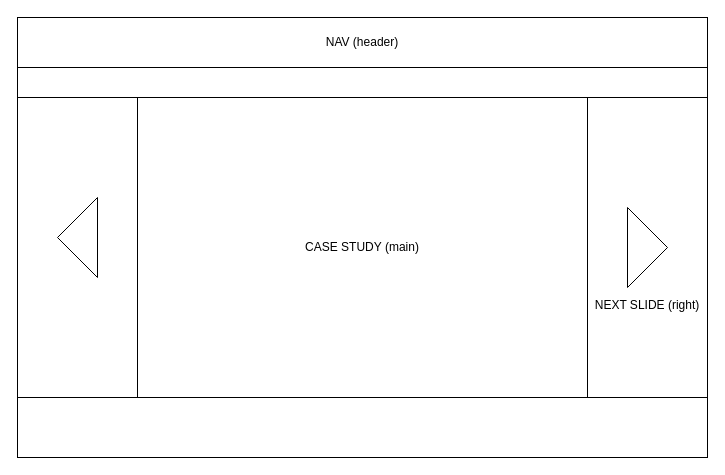
This 725x475 diagram has some shape labels left out. The shapes that lost their labels are listed below. From the top down, each one's centre as x and y in pixels, then its label:
At (x=362, y=82): "TITLE (header)".
At (x=362, y=427): "SUBTITLES? (footer)".
